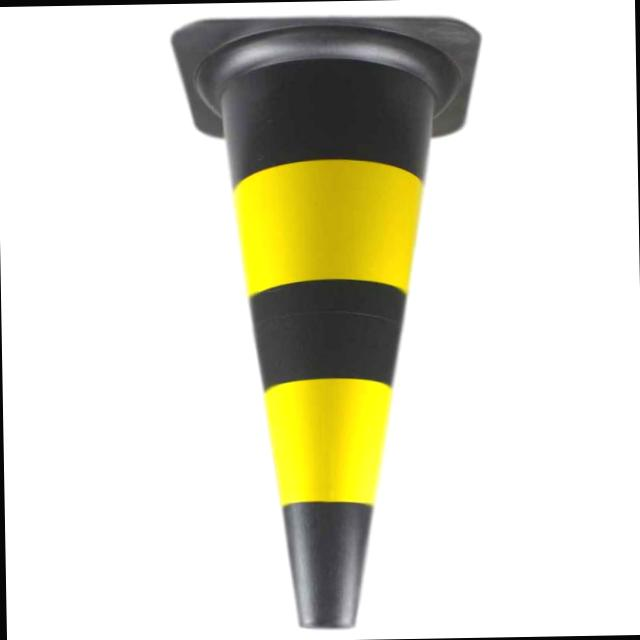cone: (169, 19, 474, 638)
